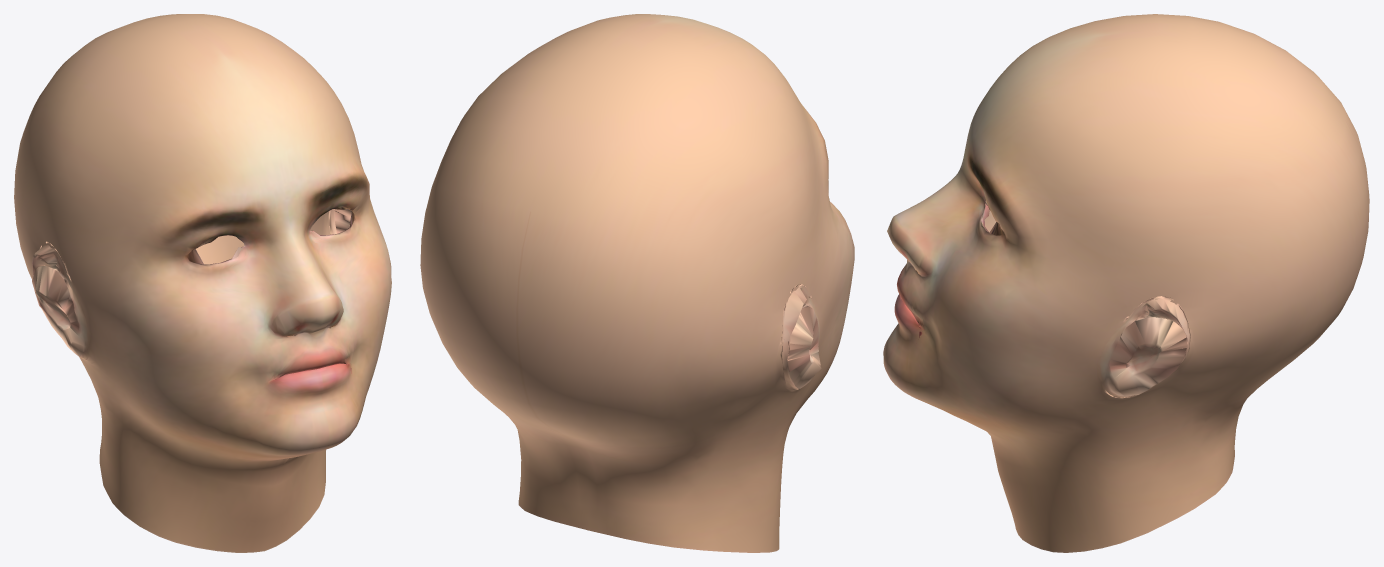
Rendered from kid.obj.
3 renders of one model, left to right at view 1: azimuth 30°, elevation 25°; view 2: azimuth 150°, elevation 25°; view 3: azimuth 270°, elevation 25°, orthographic. The views are drawn at different scales.
Parts seen in each view (by area): view 1: skin_hi; view 2: skin_hi; view 3: skin_hi.
Part boxes in pixels (box(x1,y1,x2,y2)): skin_hi: box(14, 14, 391, 552); skin_hi: box(420, 14, 854, 552); skin_hi: box(883, 14, 1369, 552).
Bounding box in the file's own units: 2.55 × 3.58 × 3.16.
